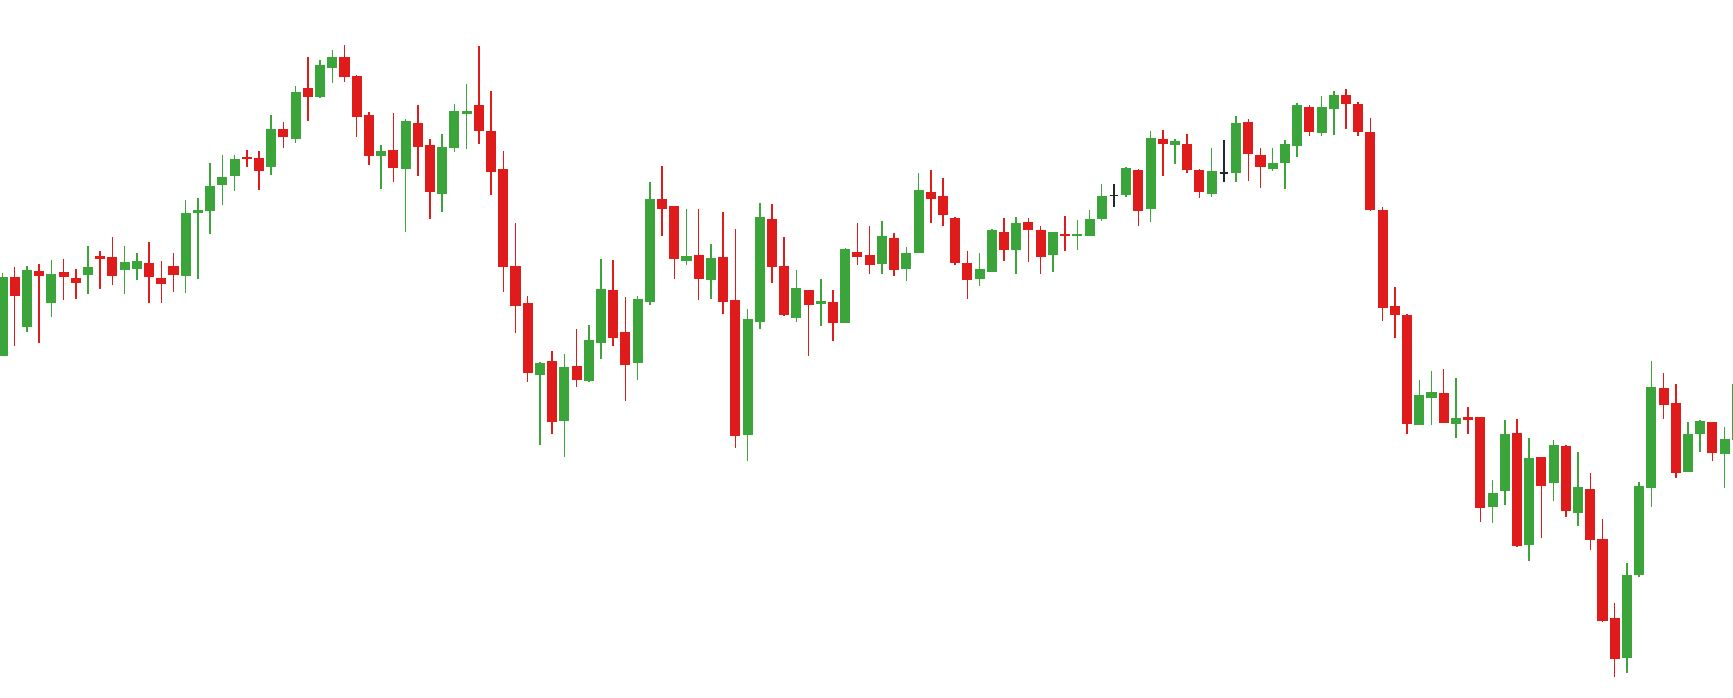buy: (620, 239, 757, 465), (1514, 473, 1646, 683), (890, 202, 986, 311)
sell: (414, 33, 485, 179), (1227, 101, 1316, 167)
